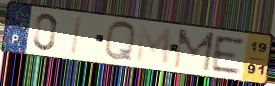0: (32, 12, 58, 51)
E: (210, 34, 247, 75)
I: (68, 15, 85, 57)
M: (171, 28, 217, 73), (134, 24, 174, 68)
Q: (102, 20, 138, 64)
